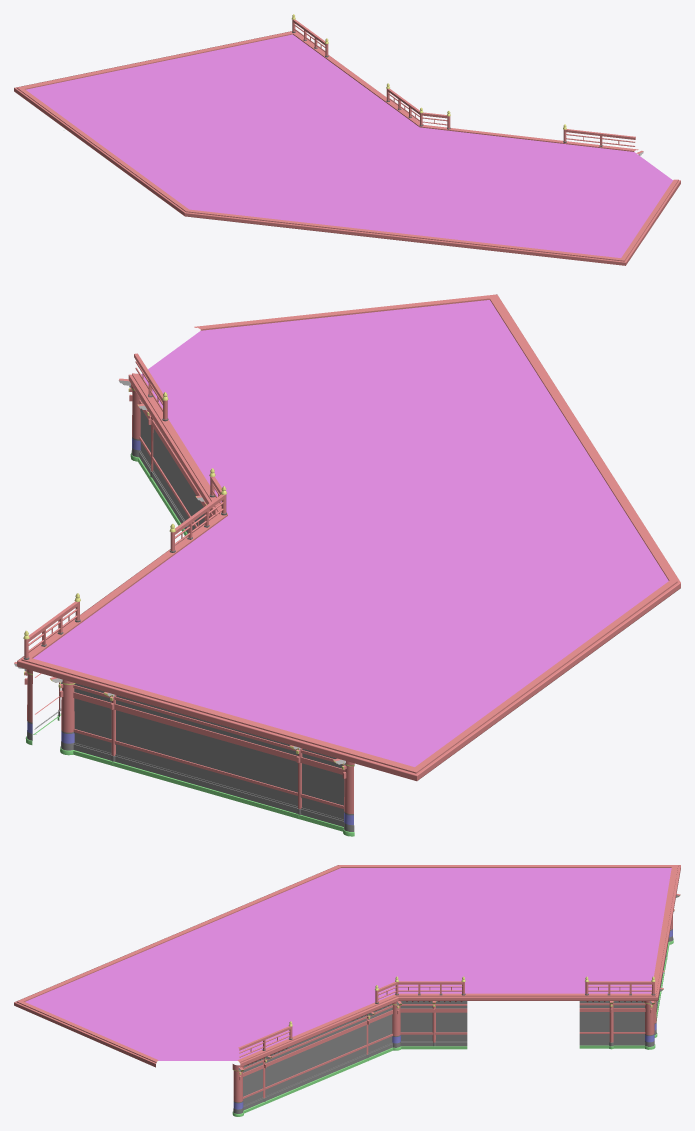
The model's file is SM_ENV_LKNVLD_WallSet_PlatformB_Lod1.gltf.
The picture shows the model from 3 angles, top to bottom: view 1: azimuth 30°, elevation 25°; view 2: azimuth 150°, elevation 25°; view 3: azimuth 270°, elevation 25°; orthographic projection. The views are drawn at different scales.
Parts seen in each view (by area): view 1: SM_ENV_LKNVLD_WallSet_PlatformB_Lod1; view 2: SM_ENV_LKNVLD_WallSet_PlatformB_Lod1; view 3: SM_ENV_LKNVLD_WallSet_PlatformB_Lod1.
Boxes of the visible parts, box(x1,y1,x2,y2) form: SM_ENV_LKNVLD_WallSet_PlatformB_Lod1: box(14, 14, 680, 265); SM_ENV_LKNVLD_WallSet_PlatformB_Lod1: box(14, 294, 680, 836); SM_ENV_LKNVLD_WallSet_PlatformB_Lod1: box(14, 865, 680, 1116).
Size of the model in its own units: 48.44 by 8.12 by 67.74.
